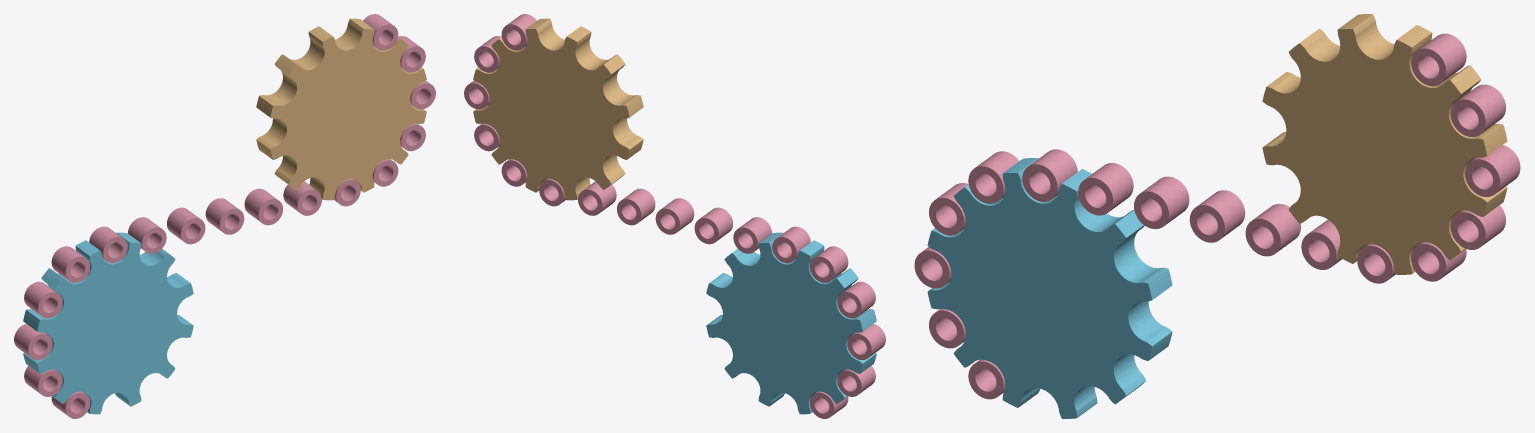
Rendered from chain_s_wrap_demo.glb.
3 renders of one model, left to right at view 1: azimuth 30°, elevation 25°; view 2: azimuth 150°, elevation 25°; view 3: azimuth 330°, elevation 25°, orthographic. The views are drawn at different scales.
Parts seen in each view (by area): view 1: out_sprocket, sprocket, roller_01, roller_07, roller_09, roller_00, roller_08, roller_02, roller_06, roller_05, roller_10, roller_03 (+7 smaller); view 2: out_sprocket, sprocket, roller_01, roller_07, roller_09, roller_00, roller_08, roller_02, roller_06, roller_05, roller_10, roller_03 (+7 smaller); view 3: sprocket, out_sprocket, roller_06, roller_16, roller_07, roller_08, roller_15, roller_09, roller_14, roller_05, roller_13, roller_00 (+7 smaller).
Boxes of the visible parts, x1=… form: out_sprocket: x1=256, y1=18, x2=426, y2=200; sprocket: x1=23, y1=232, x2=193, y2=414; roller_01: x1=24, y1=281, x2=62, y2=318; roller_07: x1=167, y1=207, x2=205, y2=244; roller_09: x1=244, y1=188, x2=282, y2=225; roller_00: x1=51, y1=246, x2=90, y2=282; roller_08: x1=205, y1=198, x2=244, y2=234; roller_02: x1=14, y1=324, x2=52, y2=359; roller_06: x1=128, y1=217, x2=166, y2=253; roller_05: x1=89, y1=226, x2=127, y2=263; roller_10: x1=283, y1=181, x2=321, y2=215; roller_03: x1=24, y1=366, x2=62, y2=396; out_sprocket: x1=473, y1=18, x2=643, y2=200; sprocket: x1=706, y1=232, x2=876, y2=414; roller_01: x1=837, y1=281, x2=875, y2=318; roller_07: x1=694, y1=207, x2=732, y2=244; roller_09: x1=617, y1=188, x2=655, y2=225; roller_00: x1=809, y1=246, x2=848, y2=282; roller_08: x1=655, y1=198, x2=694, y2=234; roller_02: x1=847, y1=324, x2=885, y2=359; roller_06: x1=733, y1=217, x2=771, y2=253; roller_05: x1=772, y1=226, x2=810, y2=263; roller_10: x1=578, y1=181, x2=616, y2=215; roller_03: x1=837, y1=366, x2=875, y2=396; sprocket: x1=927, y1=158, x2=1172, y2=418; out_sprocket: x1=1262, y1=14, x2=1507, y2=274; roller_06: x1=1078, y1=163, x2=1133, y2=215; roller_16: x1=1411, y1=33, x2=1466, y2=86; roller_07: x1=1134, y1=176, x2=1189, y2=229; roller_08: x1=1189, y1=190, x2=1245, y2=242; roller_15: x1=1450, y1=84, x2=1505, y2=137; roller_09: x1=1245, y1=203, x2=1300, y2=256; roller_14: x1=1465, y1=145, x2=1520, y2=196; roller_05: x1=1022, y1=149, x2=1077, y2=201; roller_13: x1=1450, y1=205, x2=1505, y2=249; roller_00: x1=968, y1=151, x2=1018, y2=203.
Bounding box in the file's own units: 99.95 × 75.16 × 6.
